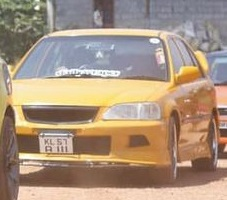KL57A111: (38, 135, 73, 153)
